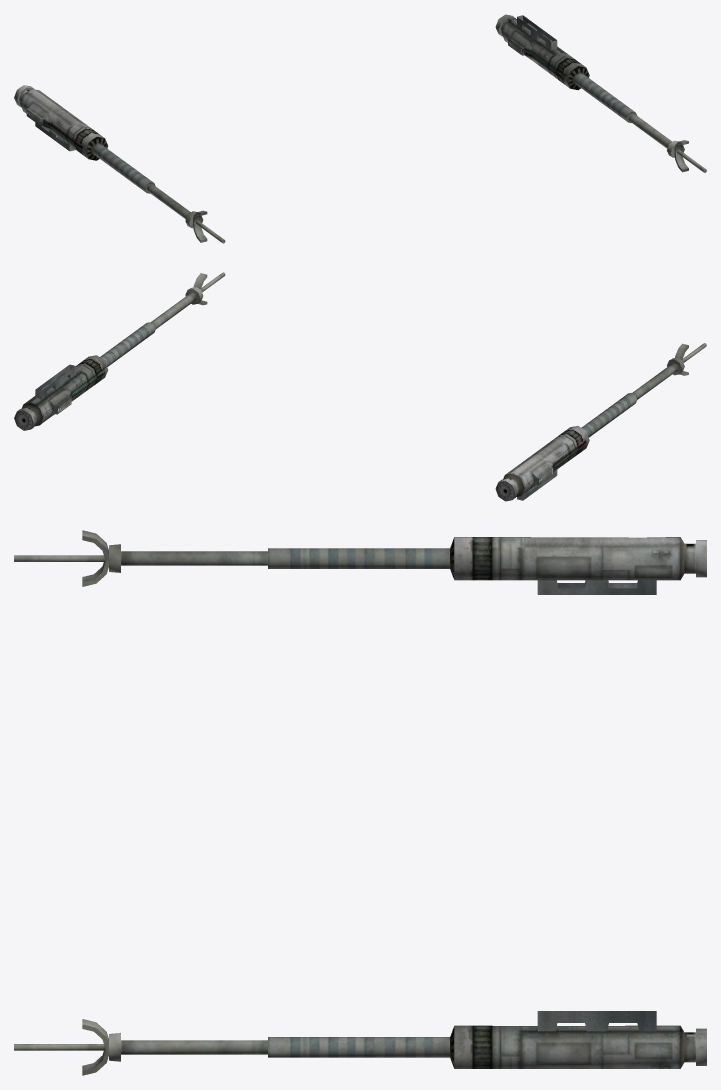
The model's file is xwing_weapon1_pos_s01_l0.fbx.
3 views of the same model, one above another, from view 1: azimuth 30°, elevation 25°; view 2: azimuth 150°, elevation 25°; view 3: azimuth 270°, elevation 25° (orthographic). The views are drawn at different scales.
Visible parts, largest first — view 1: mesh_node; view 2: mesh_node; view 3: mesh_node.
Part boxes in pixels (box(x1,y1,x2,y2)): mesh_node: box(14, 14, 706, 243); mesh_node: box(14, 272, 706, 501); mesh_node: box(14, 530, 706, 1075).
Bounding box in the file's own units: 13.13 × 1.89 × 8.94.
Materials: 1 (1 with a texture image).
